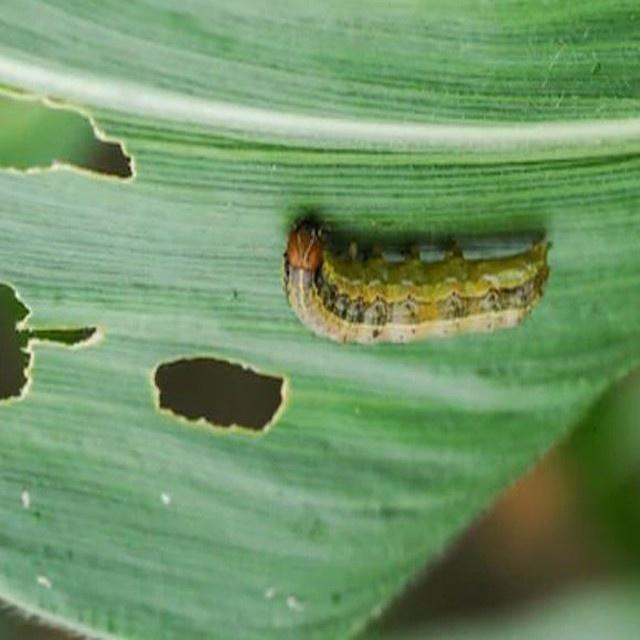gusano_cogollero: (290, 222, 550, 345)
